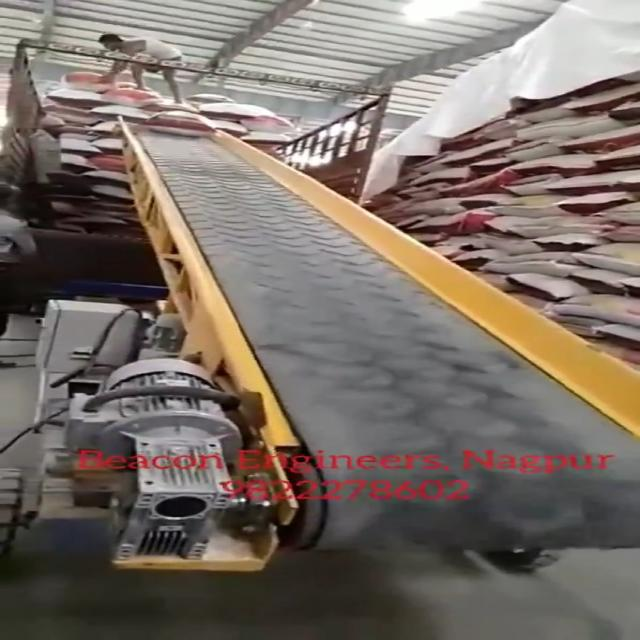Convoyeur: (102, 112, 640, 568)
